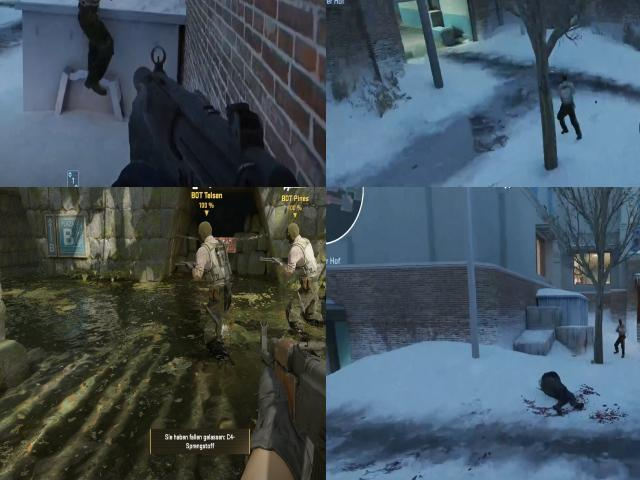Bomb: (213, 243, 228, 268)
Dead: (530, 373, 585, 415)
T: (194, 217, 234, 348), (280, 220, 320, 346), (556, 72, 575, 112), (77, 0, 114, 17), (614, 316, 628, 344)
T-Head: (192, 218, 218, 249), (282, 220, 306, 251), (561, 76, 571, 86), (617, 319, 625, 329)
